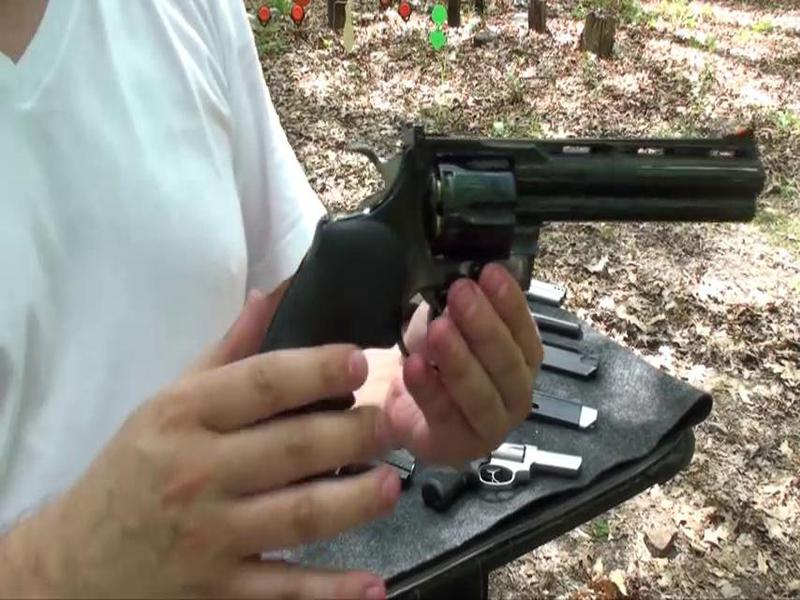Revolver: (261, 111, 772, 444)
